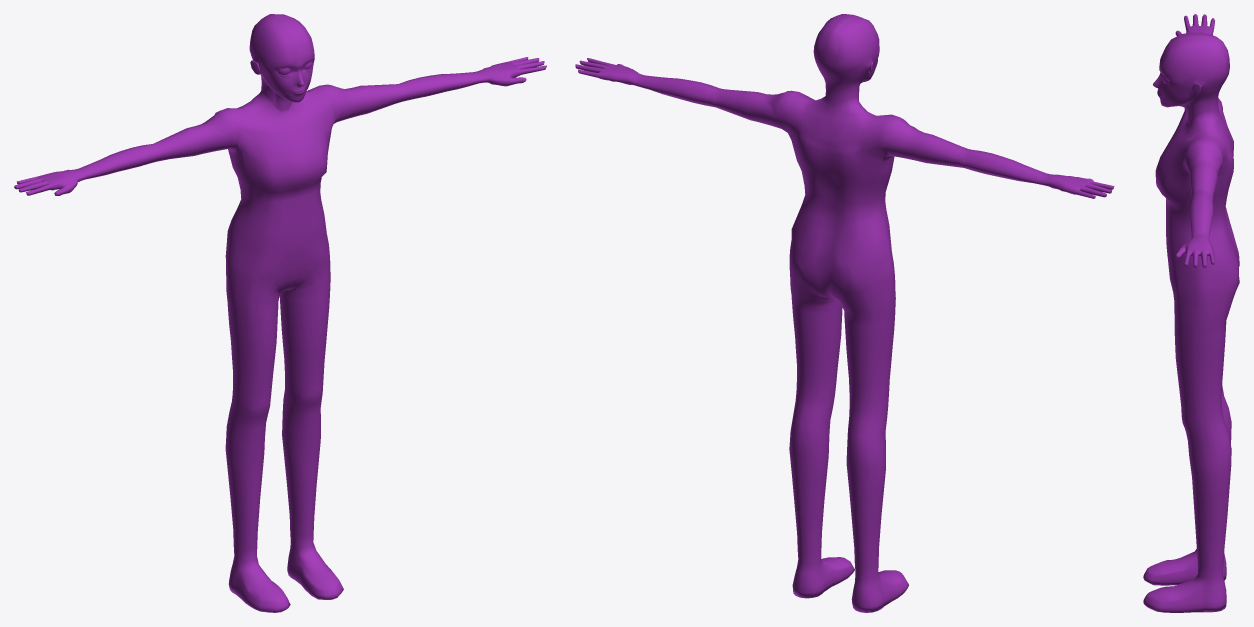
The picture shows the model from 3 angles, left to right: view 1: azimuth 30°, elevation 25°; view 2: azimuth 150°, elevation 25°; view 3: azimuth 270°, elevation 25°; orthographic projection. The views are drawn at different scales.
Parts seen in each view (by area): view 1: base_body_final; view 2: base_body_final; view 3: base_body_final.
Part boxes in pixels (bbox=[...]): base_body_final: bbox=[14, 14, 546, 612]; base_body_final: bbox=[575, 14, 1114, 612]; base_body_final: bbox=[1143, 14, 1239, 612].
Size of the model in its own units: 17.69 by 18.27 by 2.87.
